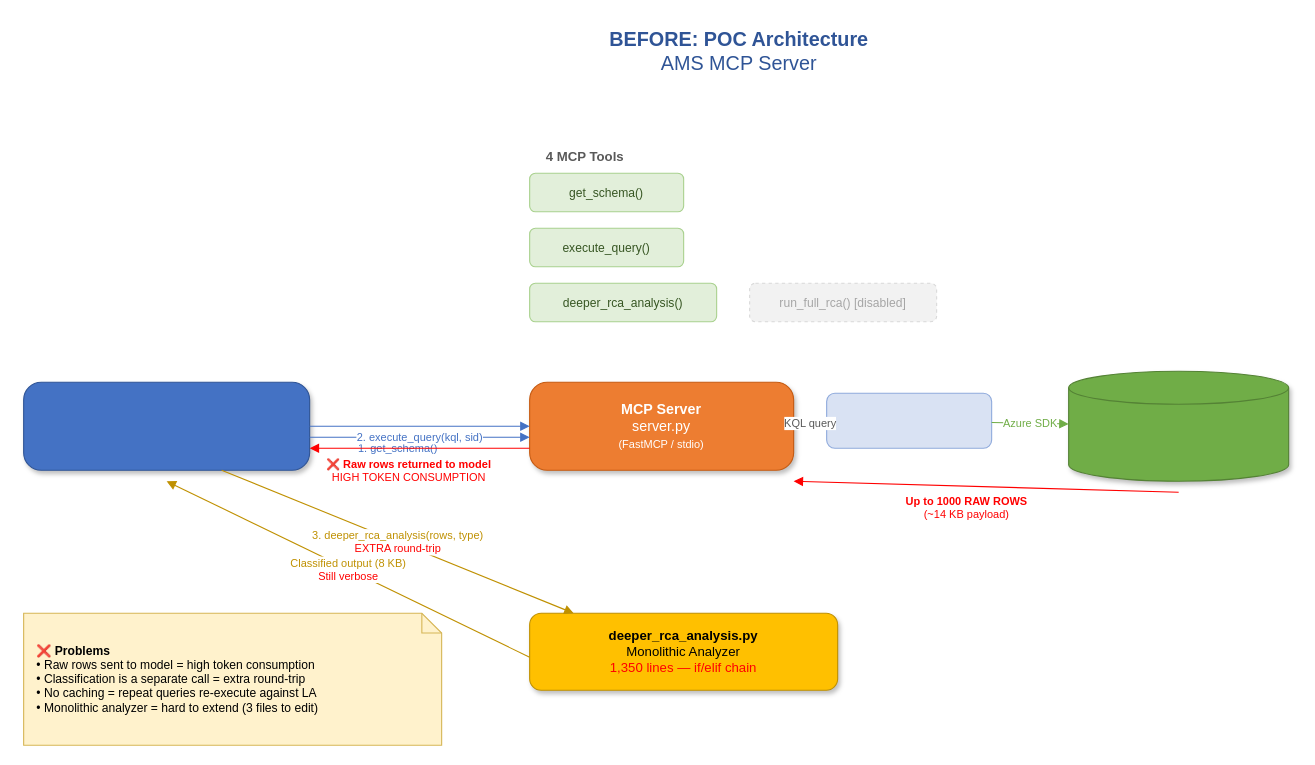
Image size: 1315x765. Some labels were removed from this diagram. The centre of each missing label's shape, as x and y in pixels:
"AI Model (Copilot / Foundry Agent / Claude)" belongs at point 167,427.
"Azure Log Analytics Workspace" belongs at point 1179,427.
"la_client.py Azure SDK" belongs at point 909,420.
